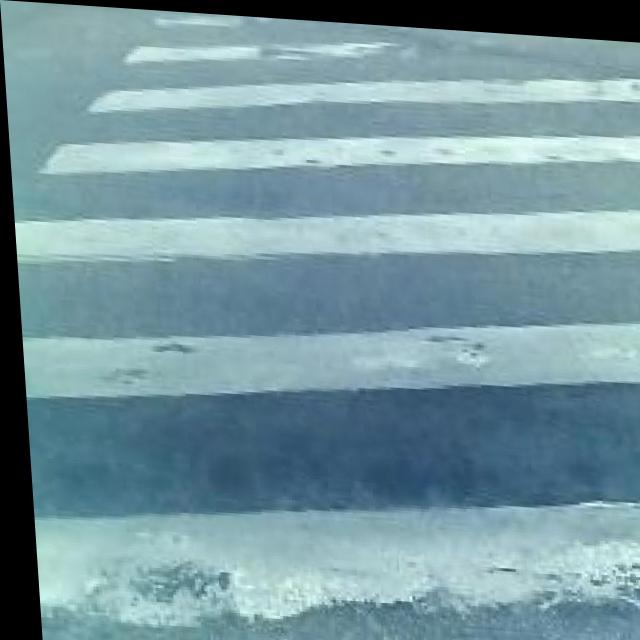zebra: (129, 27, 640, 640)
